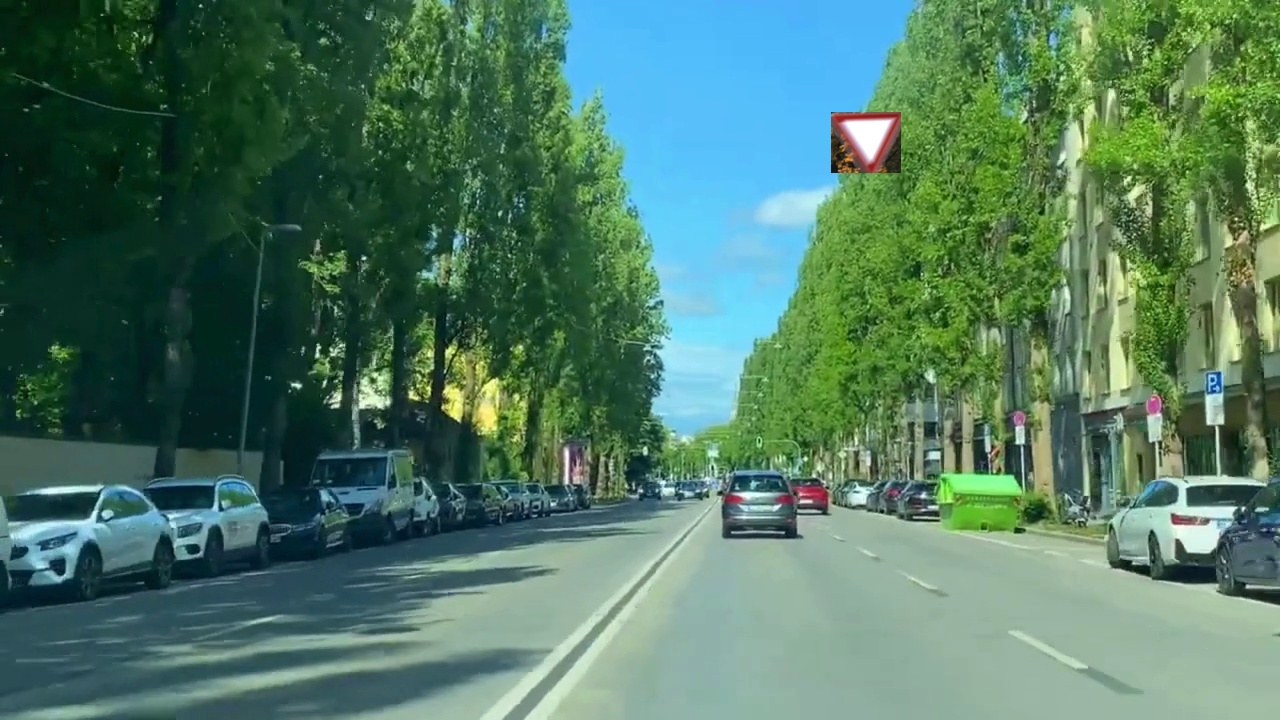Yield: (831, 112, 901, 173)
